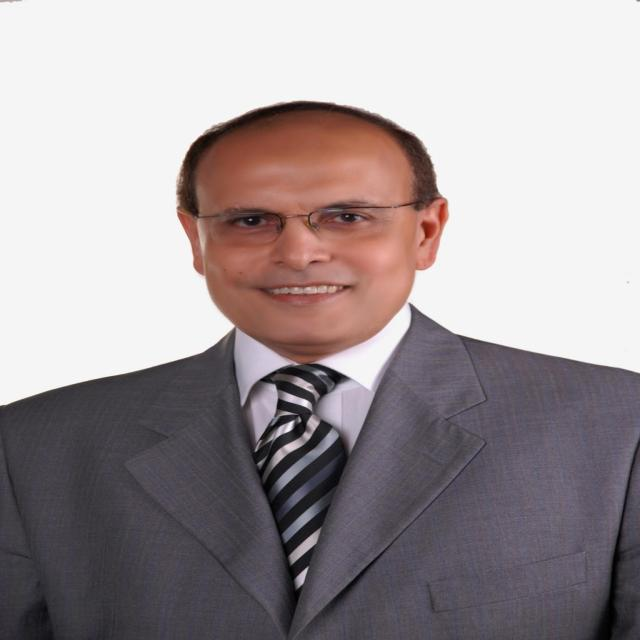nomask: (197, 137, 419, 343)
